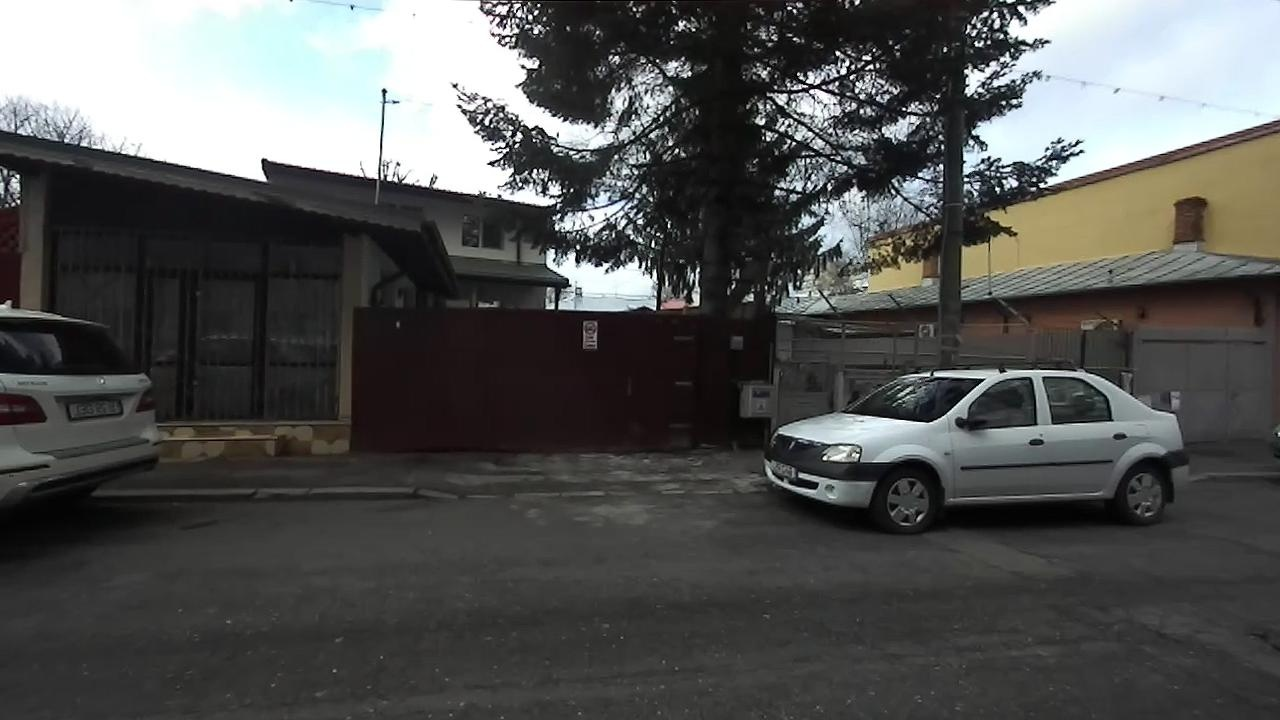pothole: (1245, 623, 1278, 658)
